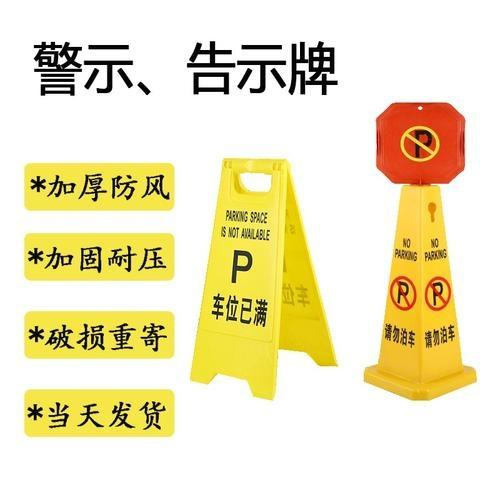cone_barrel: (361, 113, 481, 410), (178, 166, 313, 393)
